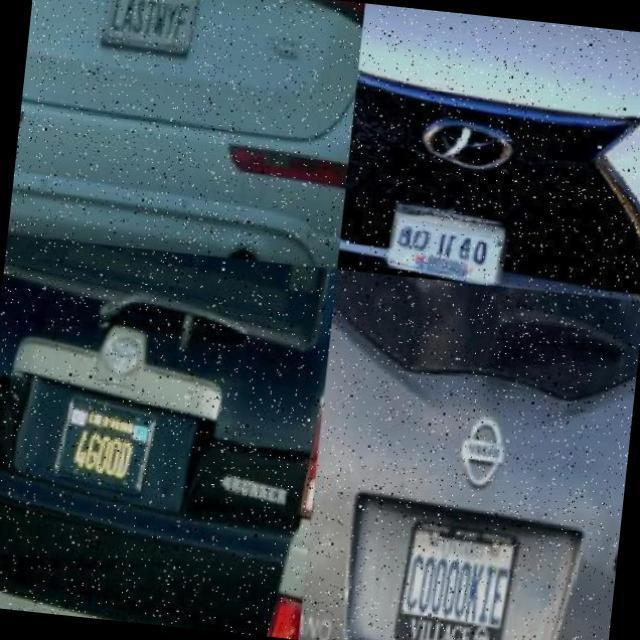License Plate: (390, 517, 520, 640), (54, 386, 166, 494), (385, 203, 509, 285), (96, 0, 198, 60)
